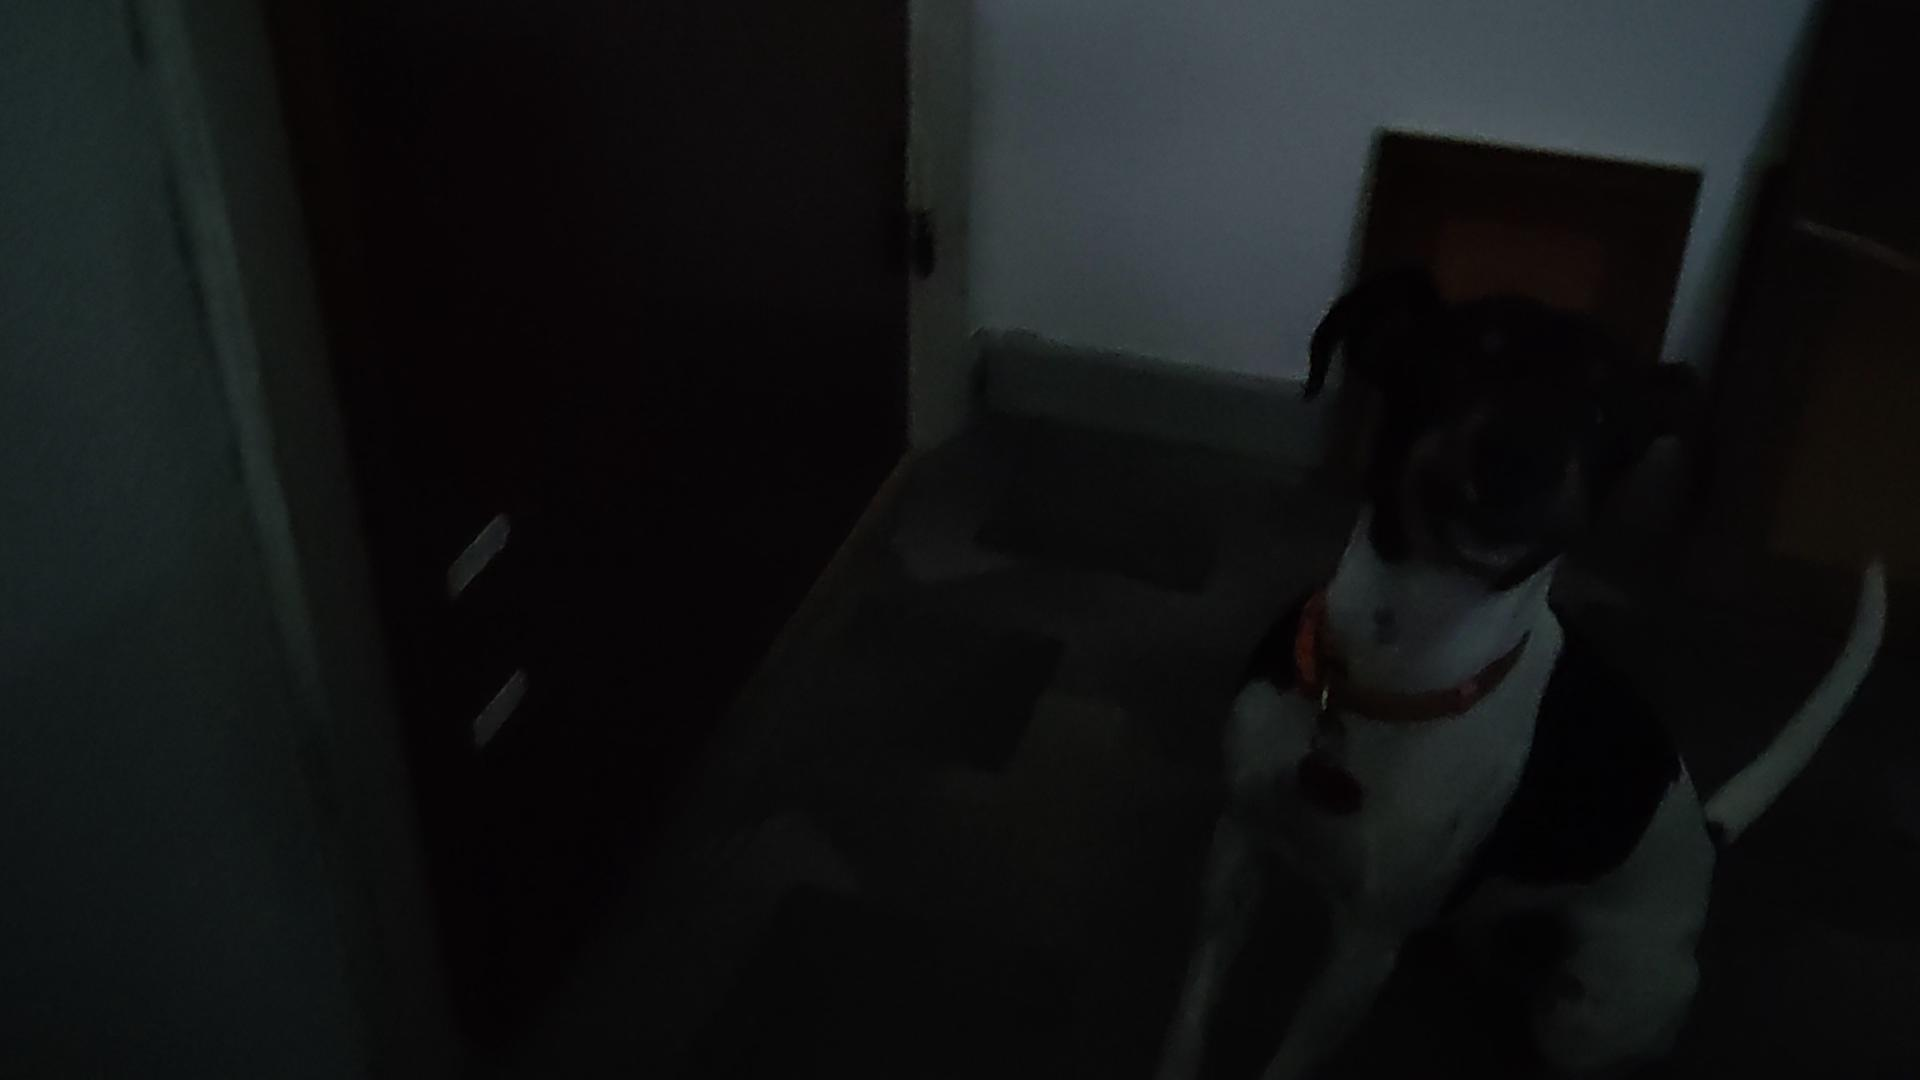Dog: (1158, 249, 1888, 1079)
